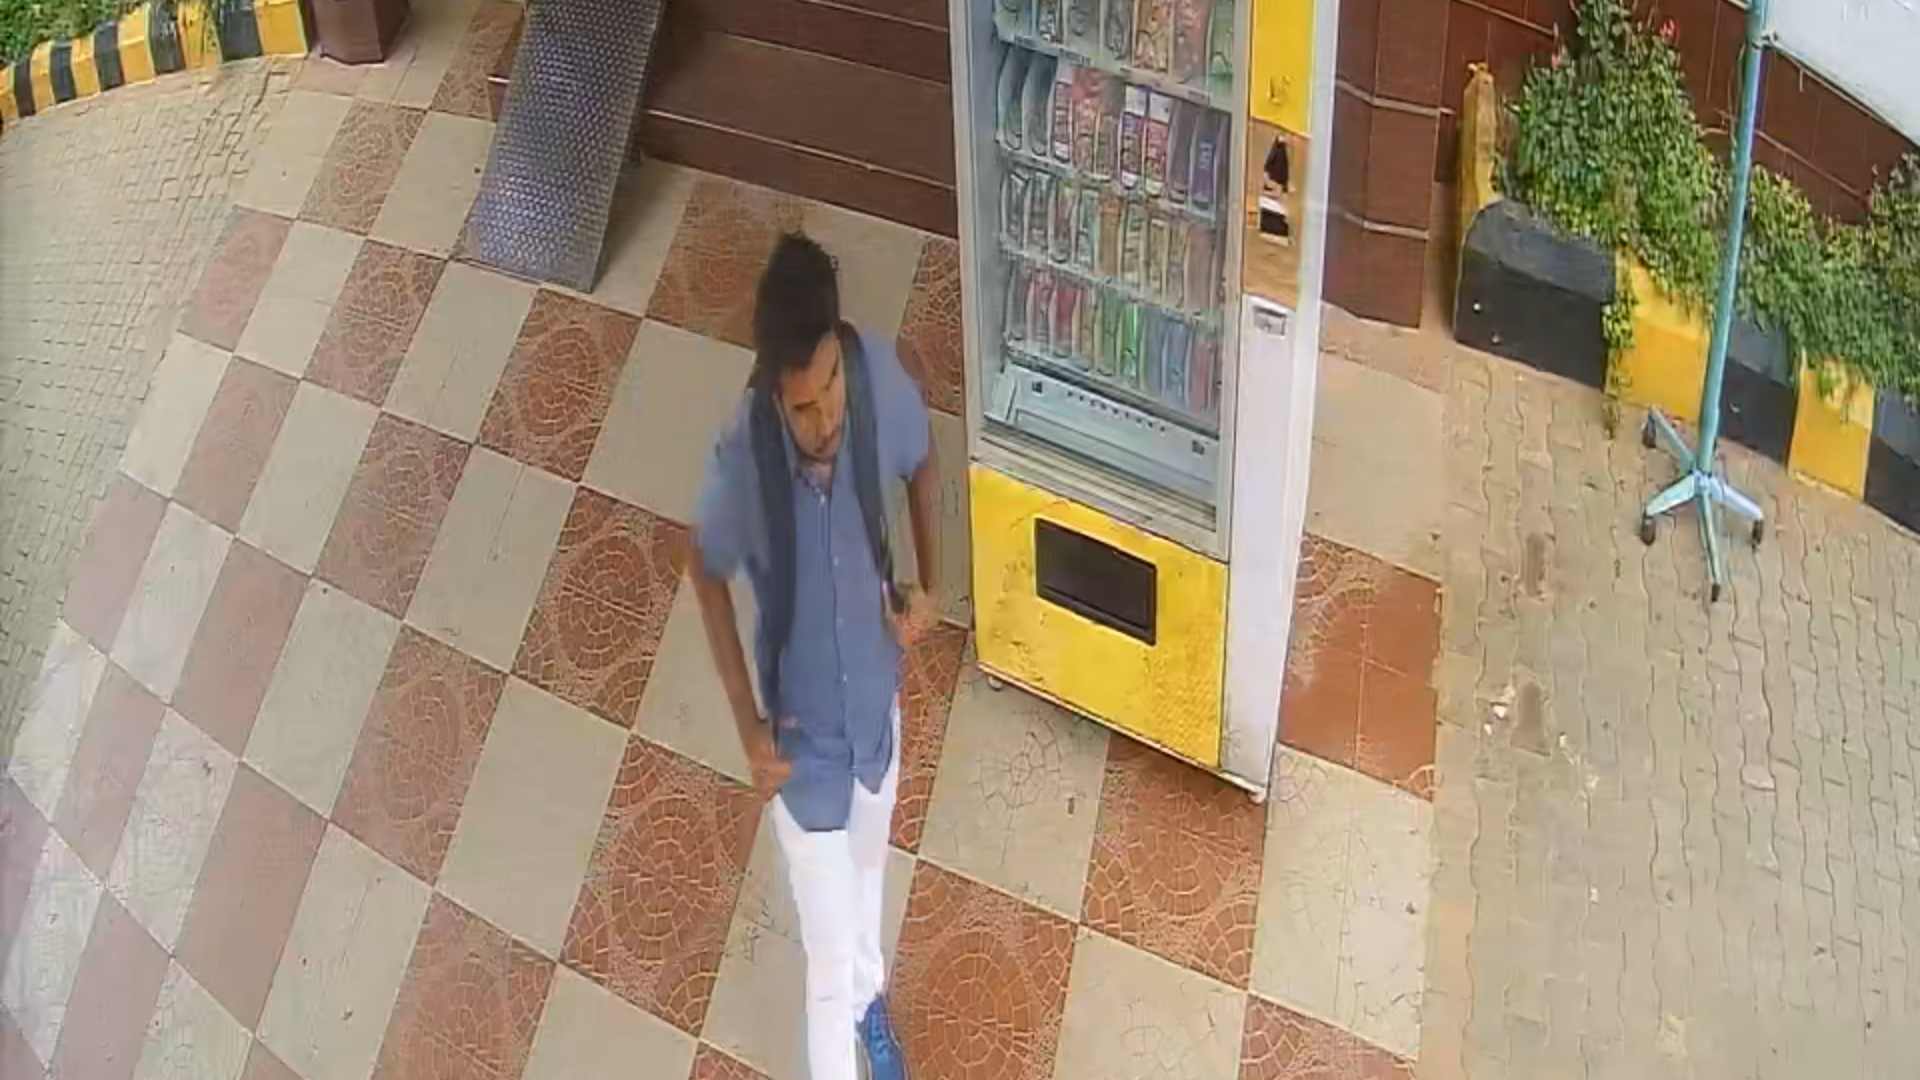intruder: (673, 233, 949, 1080)
